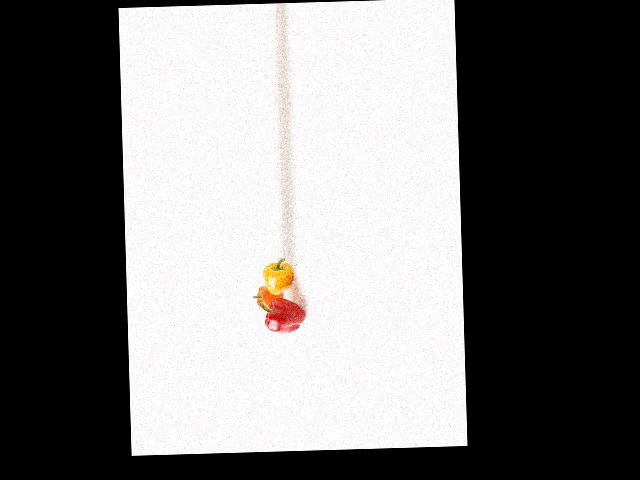bell_pepper: (255, 295, 310, 334)
